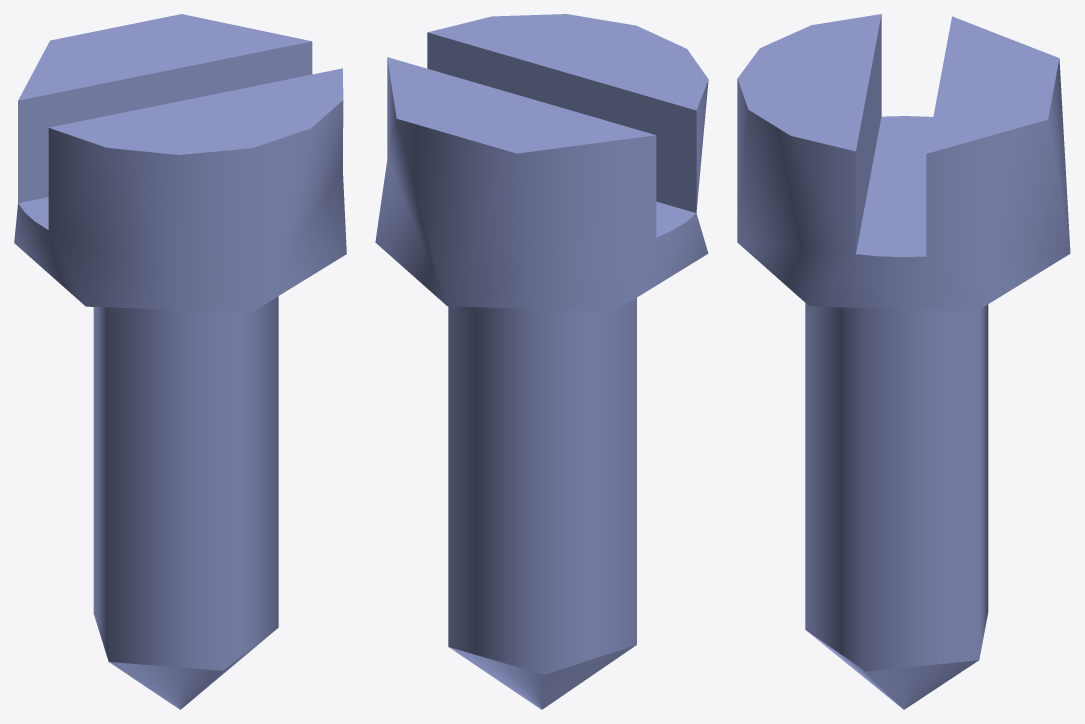
The model's file is Copie de Vis porte suspension^Horloge Comtoise Verge - Sonnerie.obj.
3 renders of one model, left to right at view 1: azimuth 30°, elevation 25°; view 2: azimuth 150°, elevation 25°; view 3: azimuth 270°, elevation 25°, orthographic.
Parts seen in each view (by area): view 1: Face_1, Face_4, Face_8, Face_5, Face_6, Face_2, Face_9; view 2: Face_1, Face_4, Face_8, Face_7, Face_6, Face_2, Face_9; view 3: Face_1, Face_4, Face_8, Face_6, Face_9, Face_2, Face_7.
Part boxes in pixels (x1=…): Face_1: x1=93, y1=296, x2=278, y2=670; Face_4: x1=14, y1=100, x2=346, y2=312; Face_8: x1=49, y1=68, x2=343, y2=154; Face_5: x1=18, y1=41, x2=312, y2=202; Face_6: x1=18, y1=14, x2=311, y2=100; Face_2: x1=109, y1=630, x2=275, y2=709; Face_9: x1=18, y1=197, x2=48, y2=229; Face_1: x1=448, y1=298, x2=636, y2=674; Face_4: x1=375, y1=58, x2=708, y2=311; Face_8: x1=428, y1=14, x2=708, y2=110; Face_7: x1=427, y1=32, x2=696, y2=212; Face_6: x1=387, y1=57, x2=655, y2=153; Face_2: x1=449, y1=645, x2=636, y2=709; Face_9: x1=656, y1=201, x2=696, y2=237; Face_1: x1=805, y1=303, x2=988, y2=671; Face_4: x1=737, y1=58, x2=1070, y2=311; Face_8: x1=737, y1=14, x2=881, y2=151; Face_6: x1=926, y1=16, x2=1059, y2=153; Face_9: x1=856, y1=116, x2=933, y2=256; Face_2: x1=807, y1=631, x2=978, y2=709; Face_7: x1=856, y1=14, x2=881, y2=252.
Size of the model in its own units: 0.0059 by 0.0122 by 0.00588.
